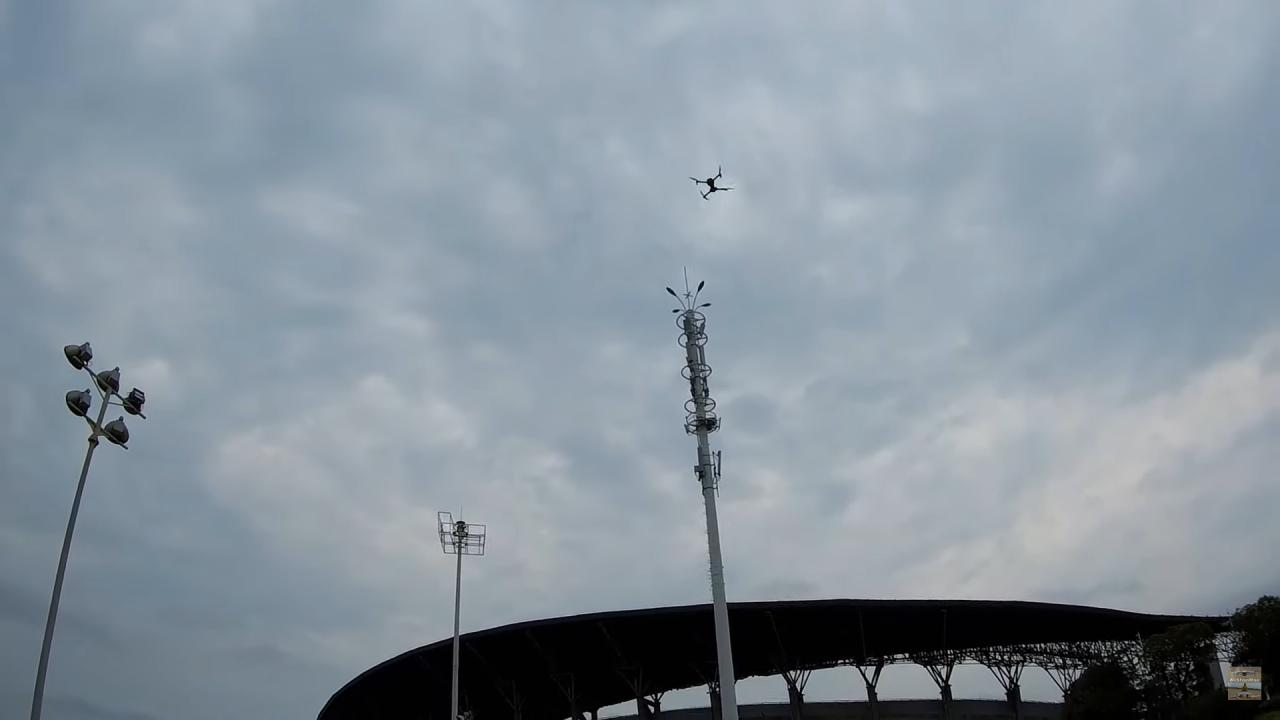Drone: (680, 168, 740, 207)
